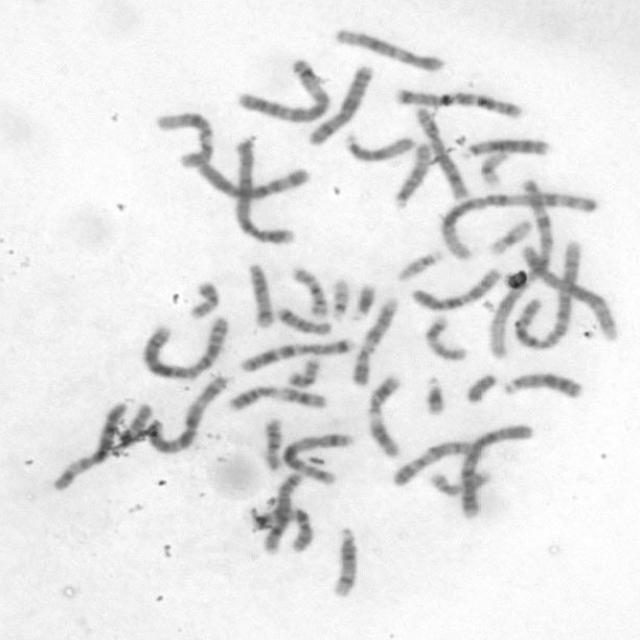A1: (486, 176, 556, 359), (440, 190, 602, 263)
A2: (512, 238, 582, 352), (138, 312, 232, 380)
A3: (146, 373, 230, 454), (237, 58, 331, 124)
B4: (457, 423, 538, 520), (232, 135, 296, 245)
B5: (520, 246, 621, 343), (282, 431, 359, 488)
C10: (409, 266, 504, 313), (249, 506, 315, 554)
C11: (366, 371, 406, 460), (224, 386, 331, 411)
C12: (332, 26, 444, 72), (154, 108, 216, 170)
C6: (50, 398, 130, 492), (198, 156, 310, 200)
C7: (393, 85, 524, 122), (240, 336, 356, 376)
C8: (410, 105, 468, 201), (260, 470, 304, 555)
C9: (391, 439, 480, 492), (350, 295, 400, 386)
D13: (500, 369, 587, 401), (459, 136, 552, 160)
D14: (331, 524, 358, 598), (247, 261, 275, 328)
D15: (394, 142, 432, 208), (345, 132, 416, 161)
E16: (291, 266, 330, 316), (260, 417, 282, 472)
E17: (422, 312, 468, 362), (430, 470, 490, 498)
E18: (277, 303, 335, 337), (119, 400, 155, 445)
F19: (488, 218, 536, 257), (479, 149, 510, 190)
F20: (187, 278, 220, 319), (286, 356, 324, 390)
G21: (349, 282, 376, 323), (424, 373, 446, 418)
G22: (394, 249, 448, 281), (328, 274, 352, 322)
X: (304, 63, 376, 148)
Y: (465, 372, 501, 404)
